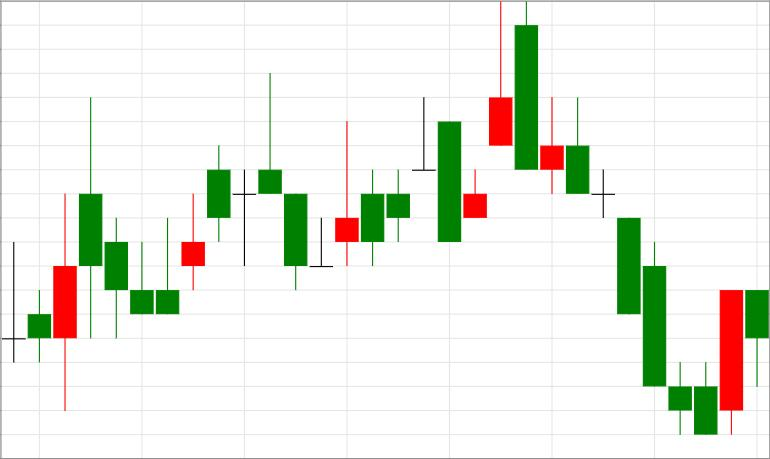bearish_engulfing_fall: (438, 1, 538, 242)
bullish_engulfing_rise: (566, 97, 743, 435)
inverse_hammer_rise: (79, 97, 179, 339)
